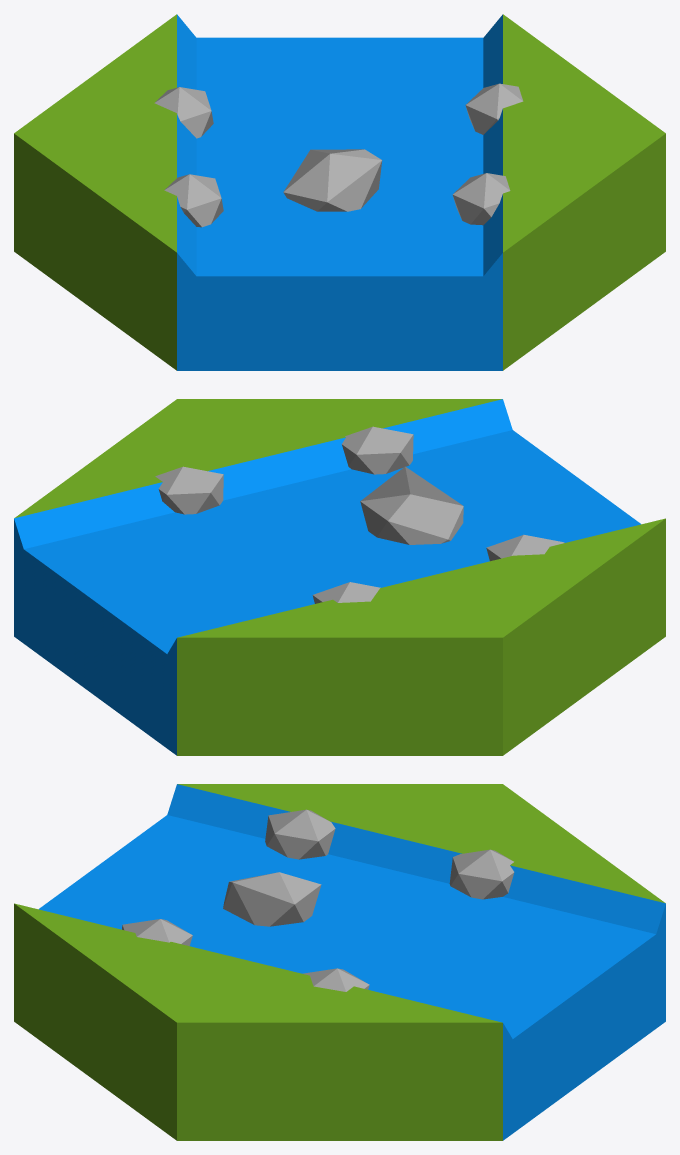
File: Rio_Hex.fbx
3 views of the same model, one above another, from view 1: azimuth 30°, elevation 25°; view 2: azimuth 150°, elevation 25°; view 3: azimuth 270°, elevation 25° (orthographic).
Parts seen in each view (by area): view 1: Rio; view 2: Rio; view 3: Rio.
Part boxes in pixels (box(x1,y1,x2,y2)): Rio: box(14, 14, 665, 370); Rio: box(14, 399, 665, 755); Rio: box(14, 784, 665, 1140).
Bounding box in the file's own units: 86.6 × 22.61 × 100.
Materials: 1 (1 with a texture image).
